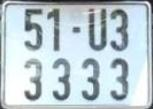-: (72, 25, 82, 33)
1: (47, 9, 61, 53)
3: (52, 57, 73, 101), (24, 57, 43, 102), (110, 57, 129, 102), (110, 9, 129, 52), (82, 59, 100, 101)
5: (23, 7, 44, 51)
U: (88, 7, 107, 52)
